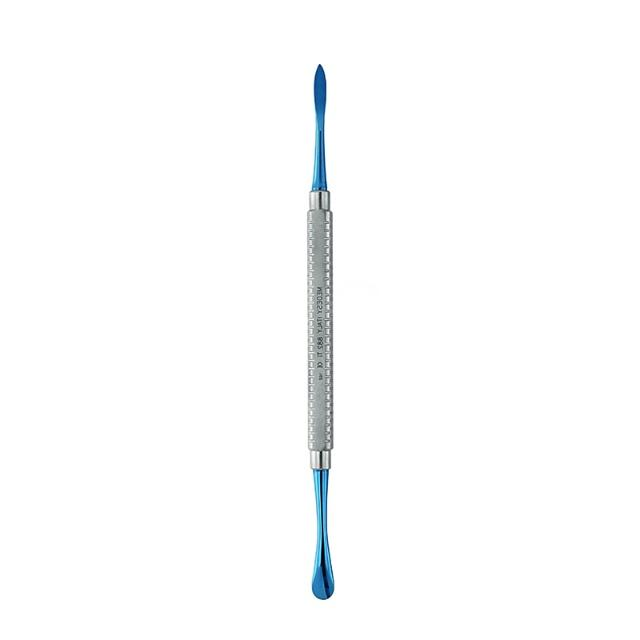elevador: (305, 67, 338, 602)
